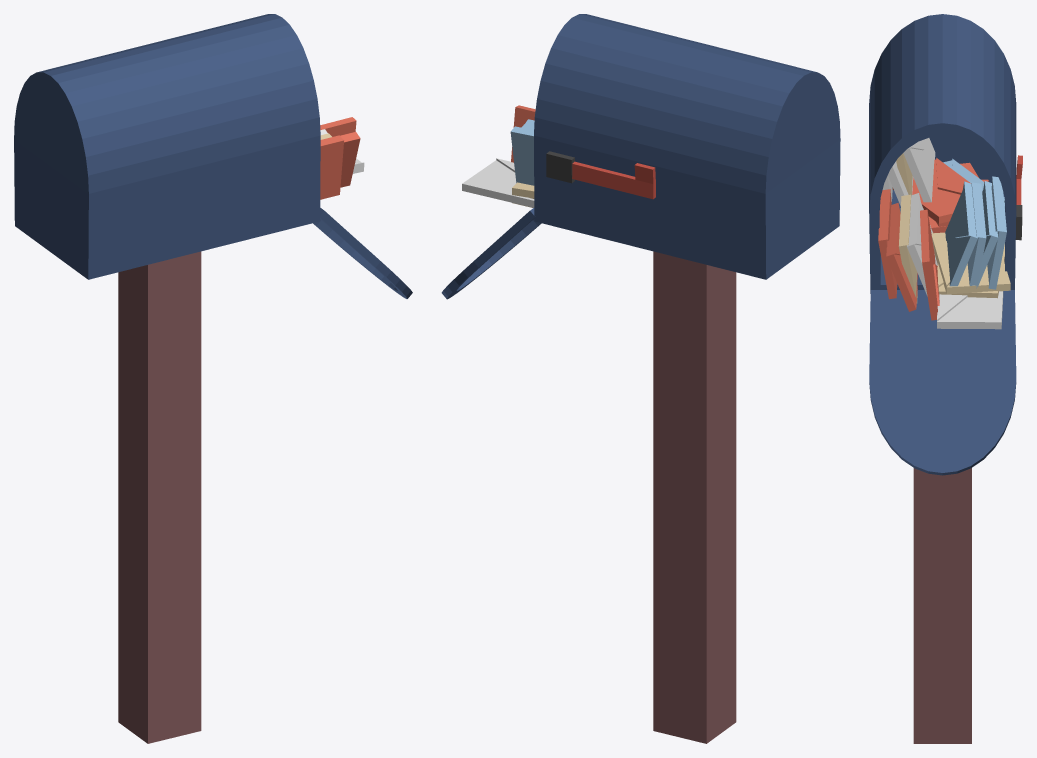
Rendered from MAILBOX.fbx.
3 renders of one model, left to right at view 1: azimuth 30°, elevation 25°; view 2: azimuth 150°, elevation 25°; view 3: azimuth 270°, elevation 25°, orthographic.
Parts seen in each view (by area): view 1: Cylinder, Cube, Cube.003; view 2: Cylinder, Cube, Cube.003, Cube.002, Cube.001; view 3: Cylinder, Cube.003, Cube, Cube.002.
Part boxes in pixels (box(x1,y1,x2,y2)): Cylinder: box(14, 14, 412, 298); Cube: box(118, 251, 201, 743); Cube.003: box(320, 117, 364, 199); Cylinder: box(441, 14, 840, 299); Cube: box(653, 251, 736, 743); Cube.003: box(462, 105, 535, 207); Cube.002: box(572, 161, 655, 199); Cube.001: box(546, 151, 574, 183); Cylinder: box(869, 14, 1016, 475); Cube.003: box(878, 138, 1010, 329); Cube: box(913, 468, 971, 743); Cube.002: box(1016, 155, 1022, 204).
Size of the model in its own units: 320 by 592 by 124.
